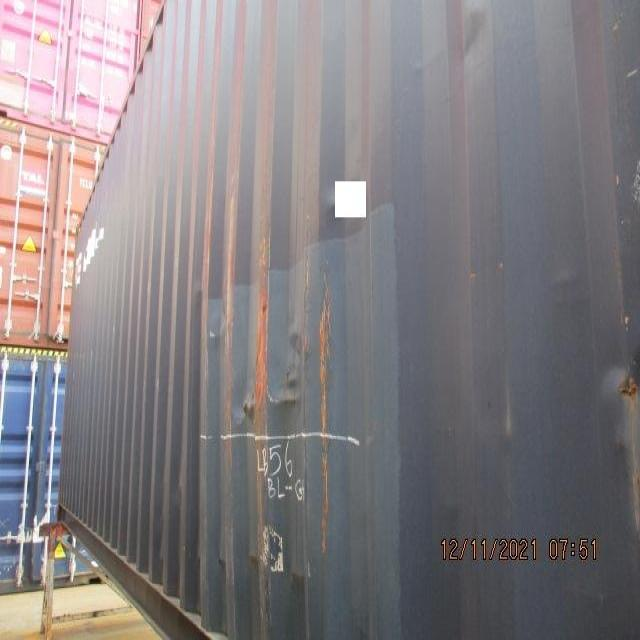dent: (184, 291, 379, 511)
